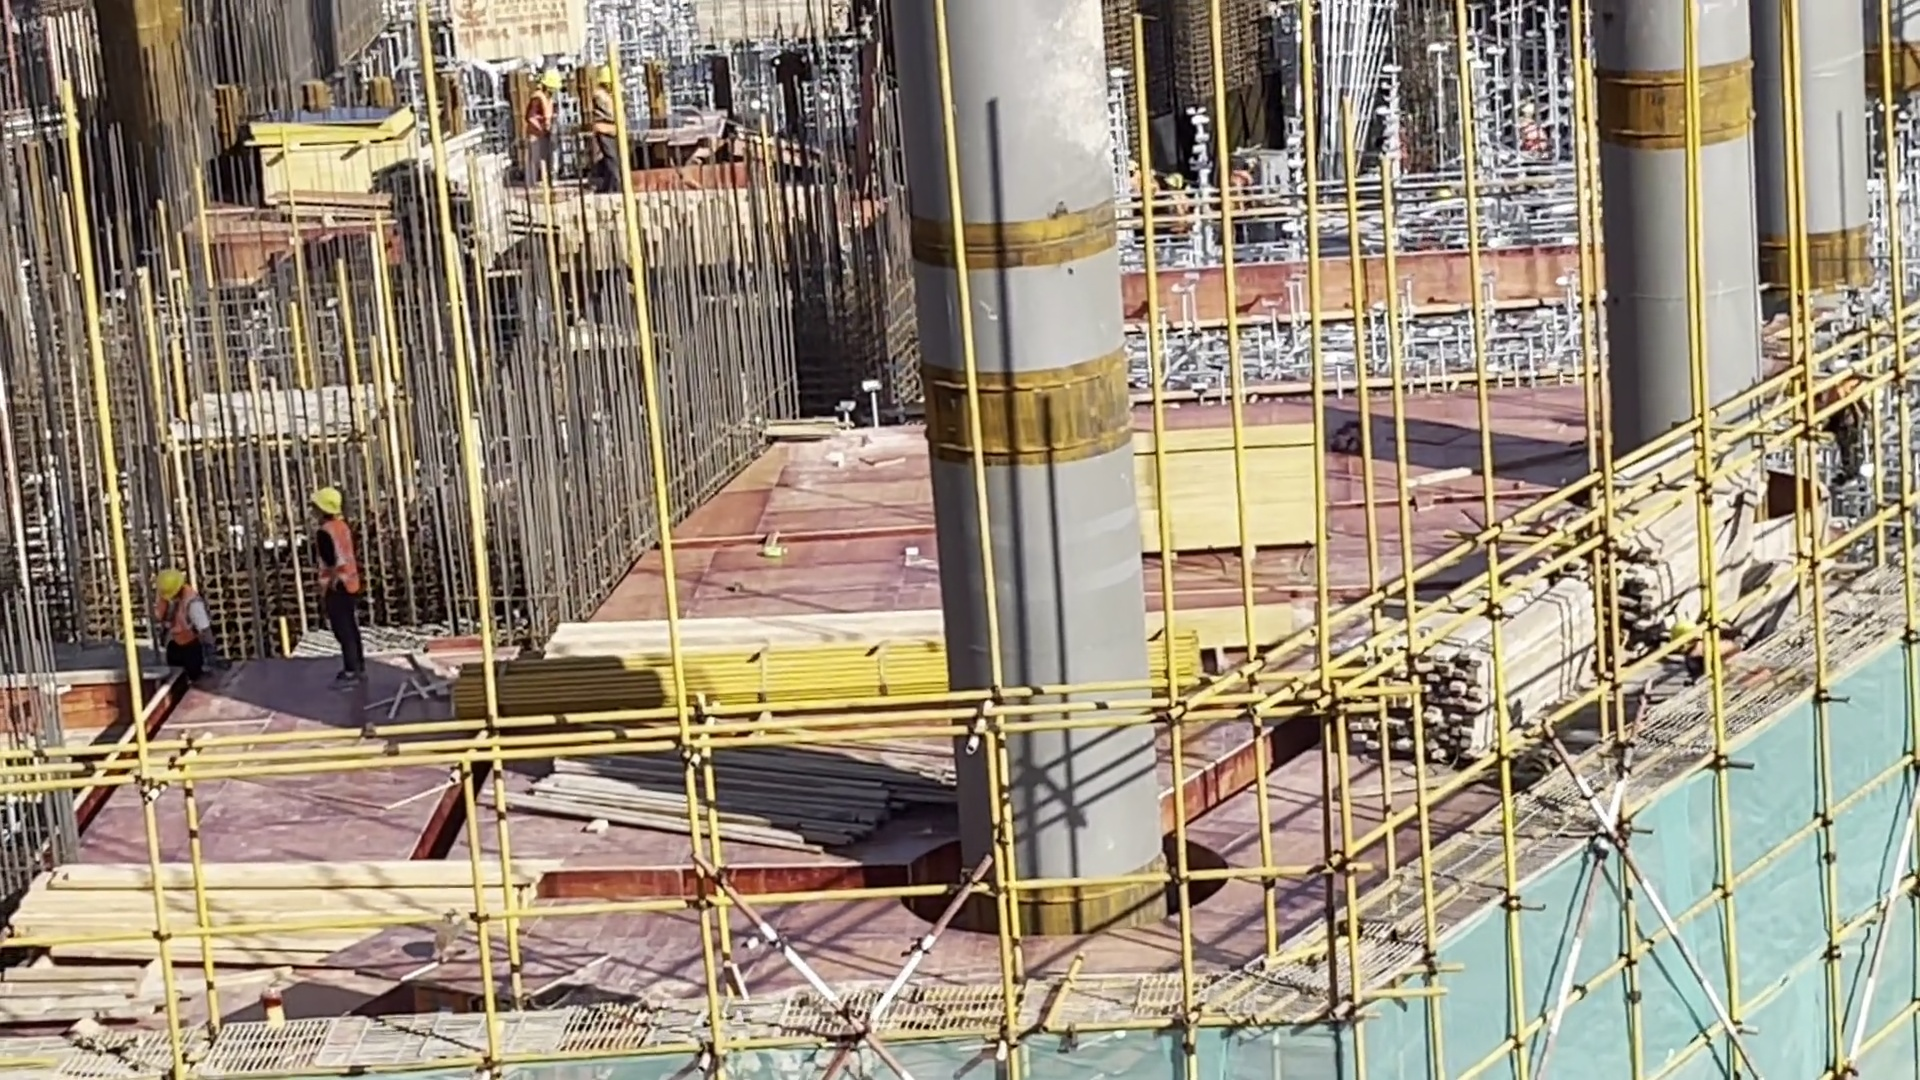board: (1129, 394, 1316, 574), (231, 98, 426, 158)
helmet: (297, 484, 343, 534), (154, 563, 190, 609), (539, 66, 561, 94), (598, 65, 617, 93)
person: (304, 480, 390, 693), (152, 556, 220, 699), (591, 48, 638, 191), (525, 54, 572, 184)
vest: (310, 519, 373, 613), (156, 586, 209, 655), (524, 92, 564, 139), (593, 94, 625, 147)
wood: (26, 838, 541, 992), (1338, 562, 1587, 771), (1590, 459, 1758, 649)
